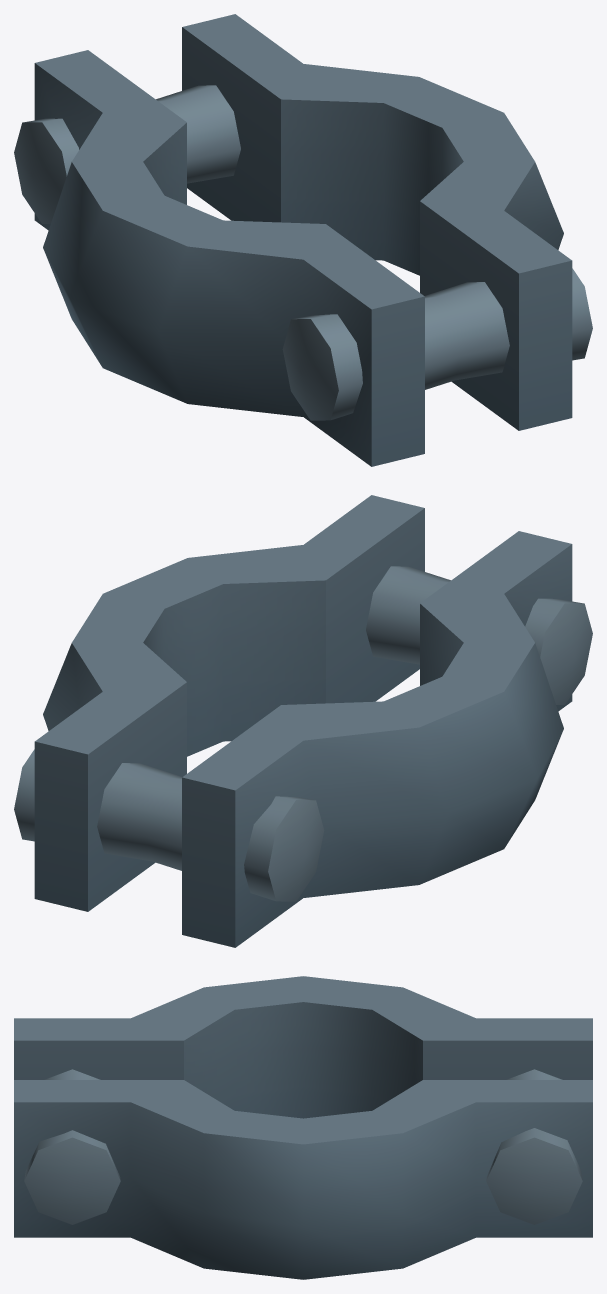
The model's file is chain_shackle.fbx.
3 views of the same model, one above another, from view 1: azimuth 30°, elevation 25°; view 2: azimuth 150°, elevation 25°; view 3: azimuth 270°, elevation 25° (orthographic). The views are drawn at different scales.
Parts seen in each view (by area): view 1: chain_shackle; view 2: chain_shackle; view 3: chain_shackle.
Boxes of the visible parts, box(x1,y1,x2,y2) form: chain_shackle: box(14, 14, 592, 466); chain_shackle: box(14, 495, 592, 947); chain_shackle: box(14, 976, 592, 1279).
Bounding box in the file's own units: 46.65 × 15 × 58.14.
